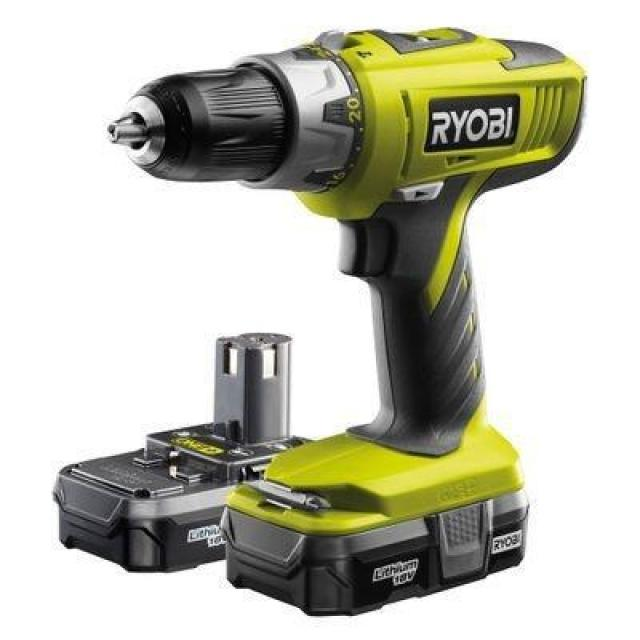drill: (108, 26, 590, 617), (54, 333, 317, 571)
